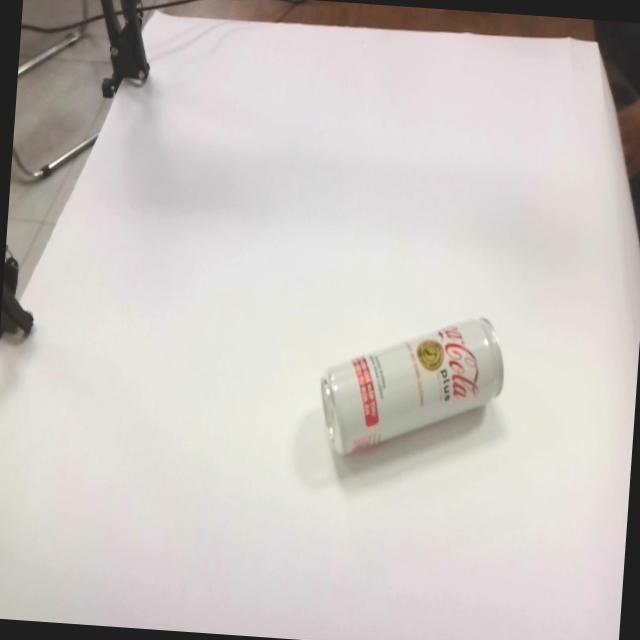debris: (312, 303, 508, 466)
